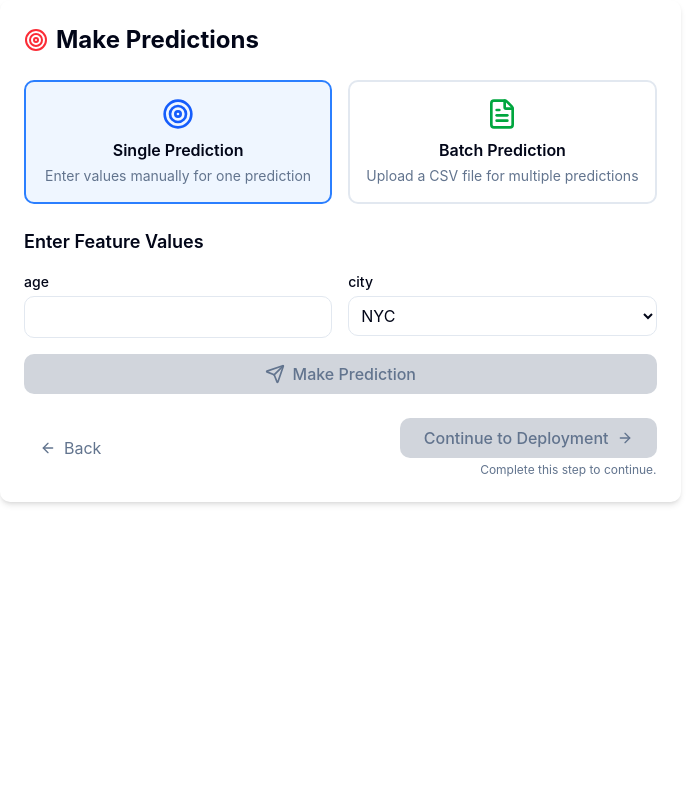
Test: PredictPage — enrichment panels (#83) › names each input the model had not seen, and why (#838)
This screenshot has width=699, height=810.
Type "42" into the number field labelled "age".
click(178, 317); type("42")  # box [24,296,332,338]
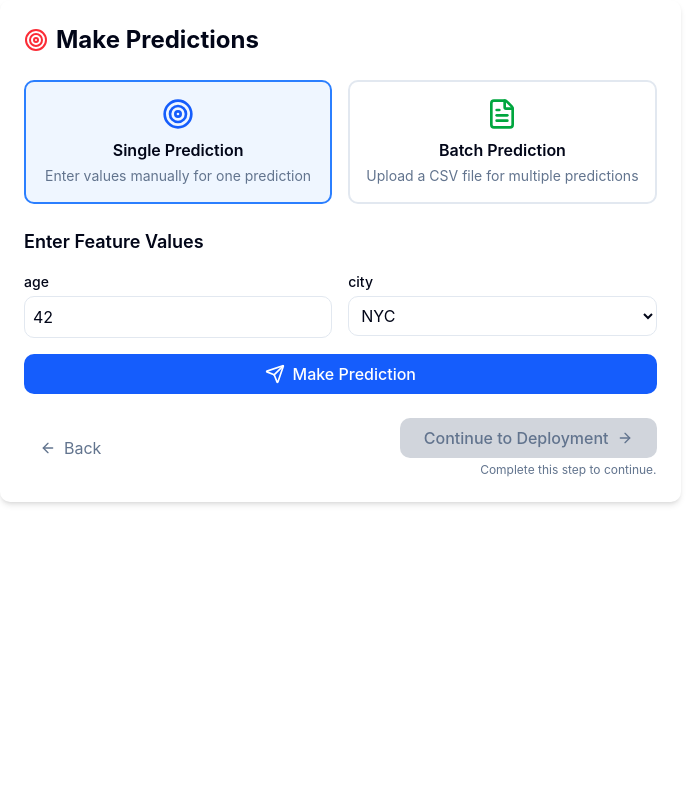
Click the button with test id "make-prediction".
click(340, 374)  # box [24,354,656,394]
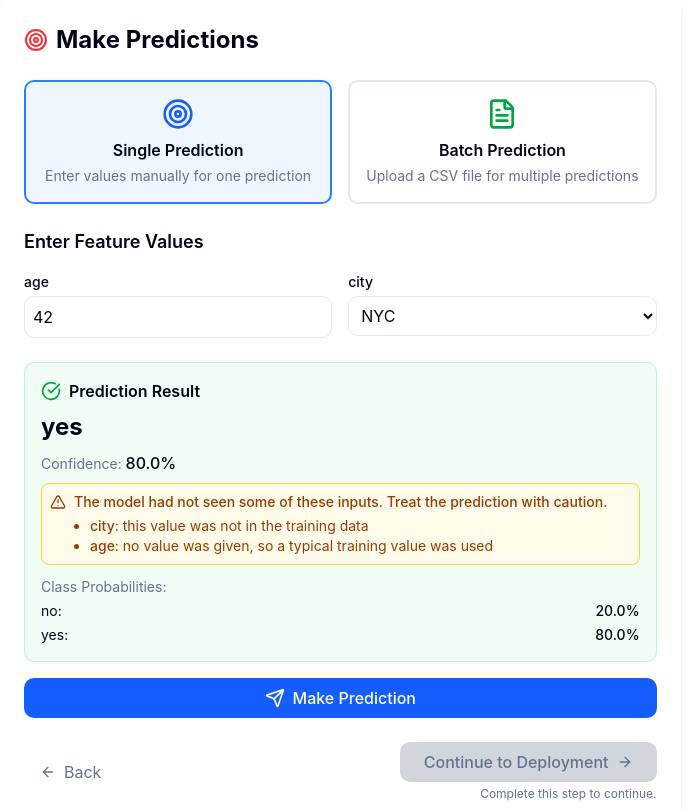
Now the element with test id "input-warnings" shows "had not seen", box [74,493,607,510]
Now the list item with test id "input-warning-city" reads "city: this value was not in the training data", box [90,517,369,534]
Now the list item with test id "input-warning-age" reads "age: no value was given, so a typical training value was used", box [90,537,493,554]
